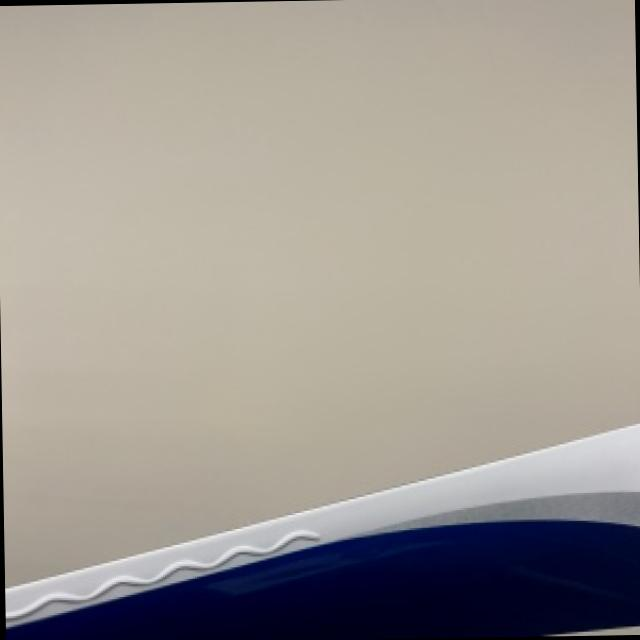healthy: (7, 423, 640, 640)
